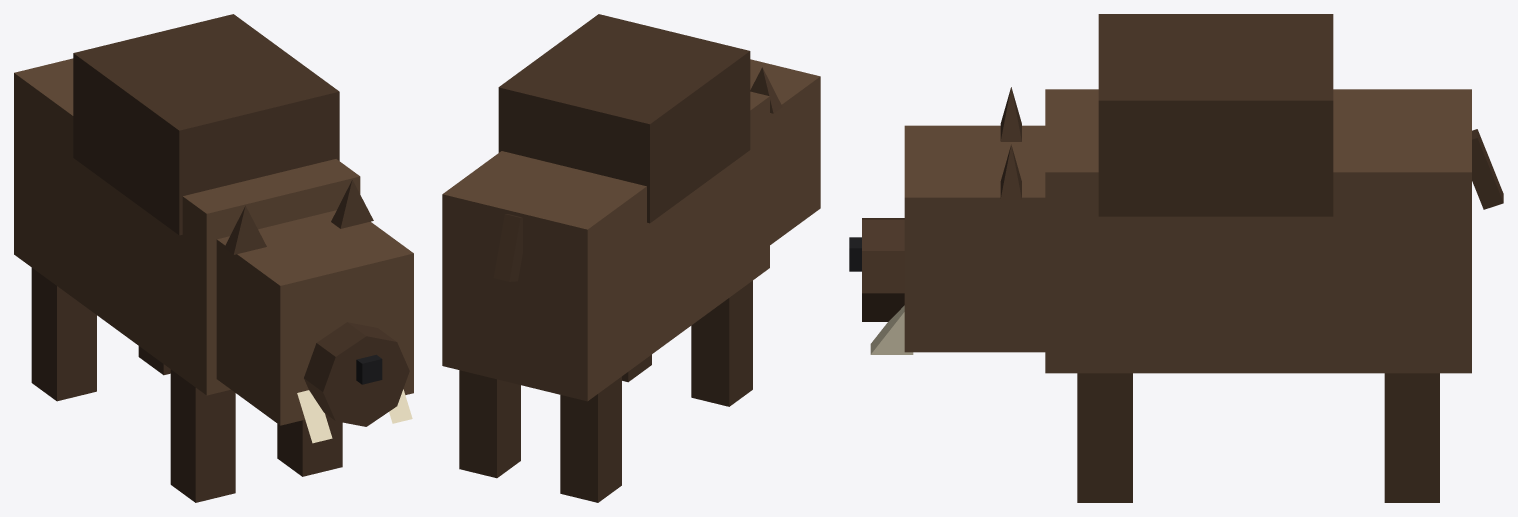
File: beast_boar.glb
3 views of the same model, side by side, from view 1: azimuth 30°, elevation 25°; view 2: azimuth 150°, elevation 25°; view 3: azimuth 270°, elevation 25° (orthographic). The views are drawn at different scales.
Parts seen in each view (by area): view 1: beast_boar; view 2: beast_boar; view 3: beast_boar.
Part boxes in pixels (x1,y1,x2,y2): beast_boar: (14, 14, 413, 502); beast_boar: (442, 14, 820, 502); beast_boar: (849, 14, 1503, 502).
Size of the model in its own units: 0.48 by 1.05 by 1.53.
